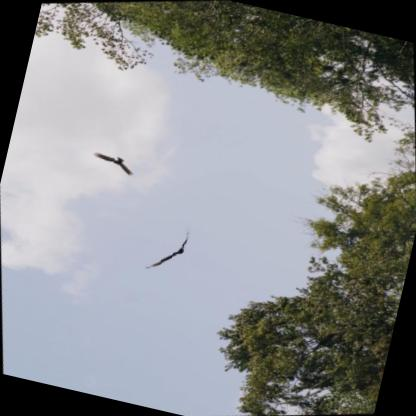bird: (134, 217, 204, 279), (86, 142, 140, 186)
